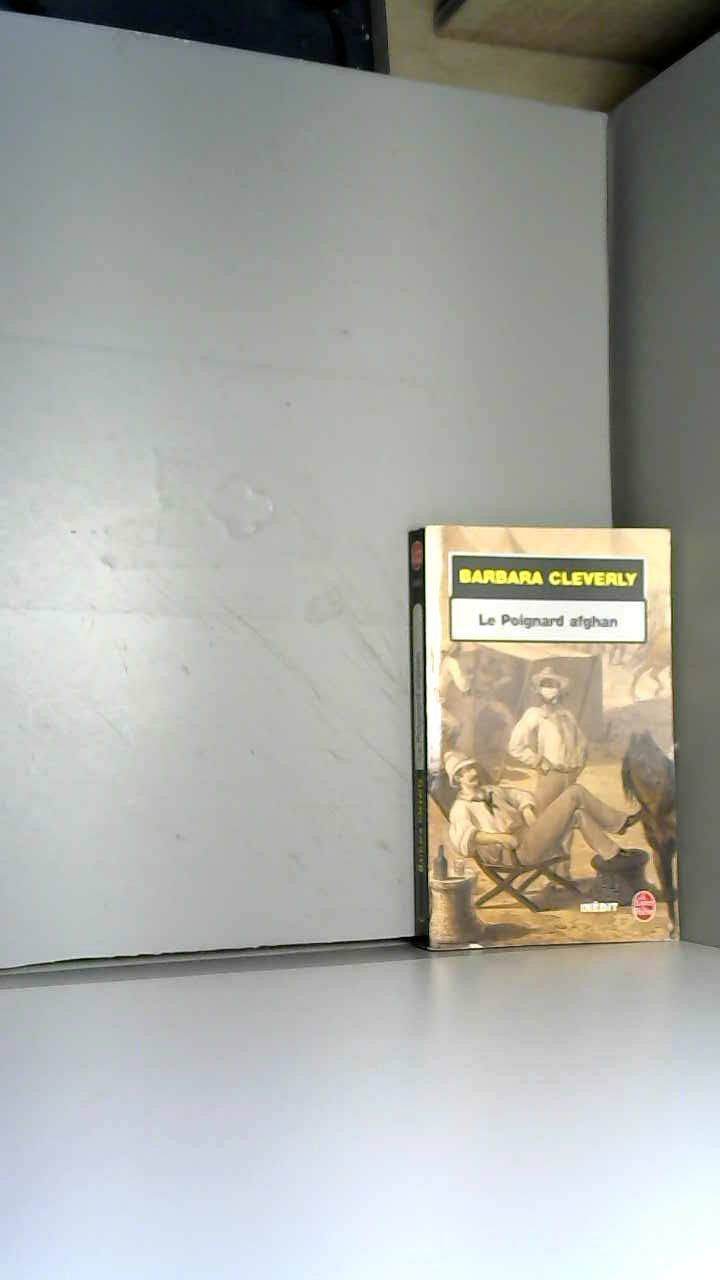book: (370, 485, 720, 992)
